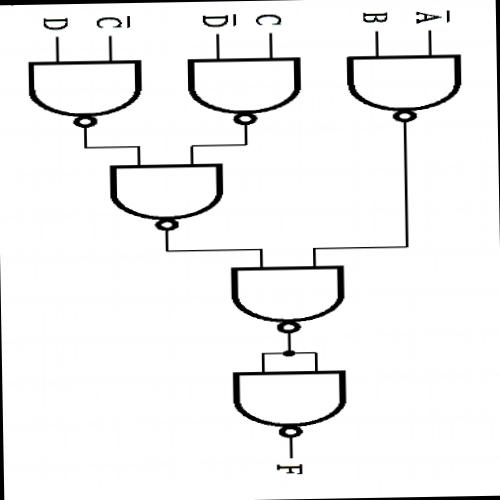nand: (222, 362, 355, 443), (219, 260, 354, 337), (337, 48, 470, 126), (98, 158, 234, 234), (21, 52, 150, 132), (180, 50, 310, 128)
